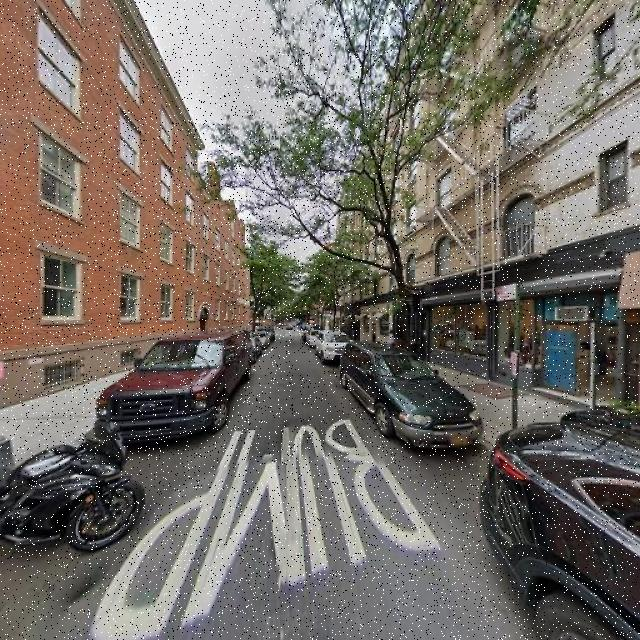Building: (339, 1, 640, 419), (1, 1, 233, 404)
